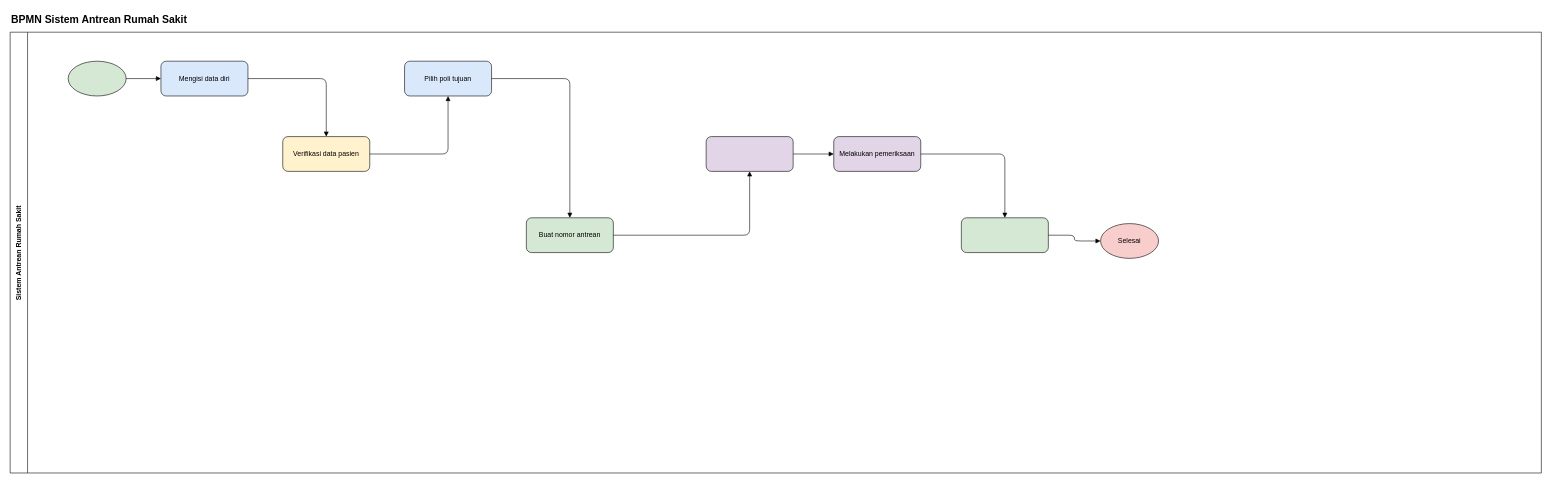
Image size: 1552x483. Some labels were removed from this diagram. Each missing label, with the box of its shape:
Panggil pasien: (706, 136, 793, 171)
Pasien datang: (68, 61, 126, 96)
Simpan hasil kunjungan: (961, 217, 1048, 253)
